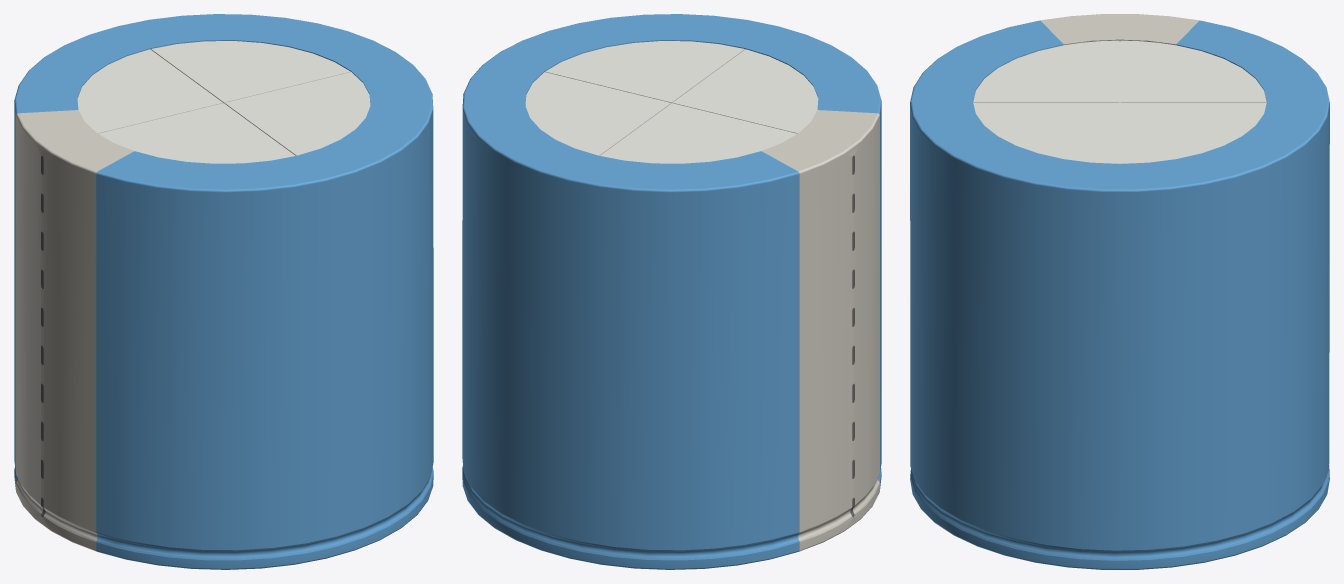
Rendered from kc-cp_radial_d40.0mm_p10.00mm_3pin_snapin.glb.
3 renders of one model, left to right at view 1: azimuth 30°, elevation 25°; view 2: azimuth 150°, elevation 25°; view 3: azimuth 270°, elevation 25°, orthographic.
Visible parts, largest first — view 1: 0.16666666666666666_0.4166666666666667_0.75_0, 0.6666666666666666_0.6666666666666666_0.5833333333333334_0, 0.8333333333333334_0.8333333333333334_0.75_0.85, 0.16666666666666666_0.16666666666666666_0.16666666666666666_; view 2: 0.16666666666666666_0.4166666666666667_0.75_0, 0.6666666666666666_0.6666666666666666_0.5833333333333334_0, 0.8333333333333334_0.8333333333333334_0.75_0.85, 0.16666666666666666_0.16666666666666666_0.16666666666666666_; view 3: 0.16666666666666666_0.4166666666666667_0.75_0, 0.8333333333333334_0.8333333333333334_0.75_0.85, 0.6666666666666666_0.6666666666666666_0.5833333333333334_0.
Boxes of the visible parts, x1=… form: 0.16666666666666666_0.4166666666666667_0.75_0: x1=14, y1=14, x2=433, y2=569; 0.6666666666666666_0.6666666666666666_0.5833333333333334_0: x1=16, y1=110, x2=134, y2=551; 0.8333333333333334_0.8333333333333334_0.75_0.85: x1=77, y1=41, x2=370, y2=163; 0.16666666666666666_0.16666666666666666_0.16666666666666666_: x1=41, y1=155, x2=45, y2=516; 0.16666666666666666_0.4166666666666667_0.75_0: x1=462, y1=14, x2=881, y2=569; 0.6666666666666666_0.6666666666666666_0.5833333333333334_0: x1=761, y1=110, x2=879, y2=551; 0.8333333333333334_0.8333333333333334_0.75_0.85: x1=525, y1=41, x2=818, y2=163; 0.16666666666666666_0.16666666666666666_0.16666666666666666_: x1=850, y1=155, x2=854, y2=516; 0.16666666666666666_0.4166666666666667_0.75_0: x1=910, y1=20, x2=1329, y2=569; 0.8333333333333334_0.8333333333333334_0.75_0.85: x1=973, y1=40, x2=1266, y2=163; 0.6666666666666666_0.6666666666666666_0.5833333333333334_0: x1=1040, y1=14, x2=1199, y2=45.
Size of the model in its own units: 4 by 4.2 by 4.
